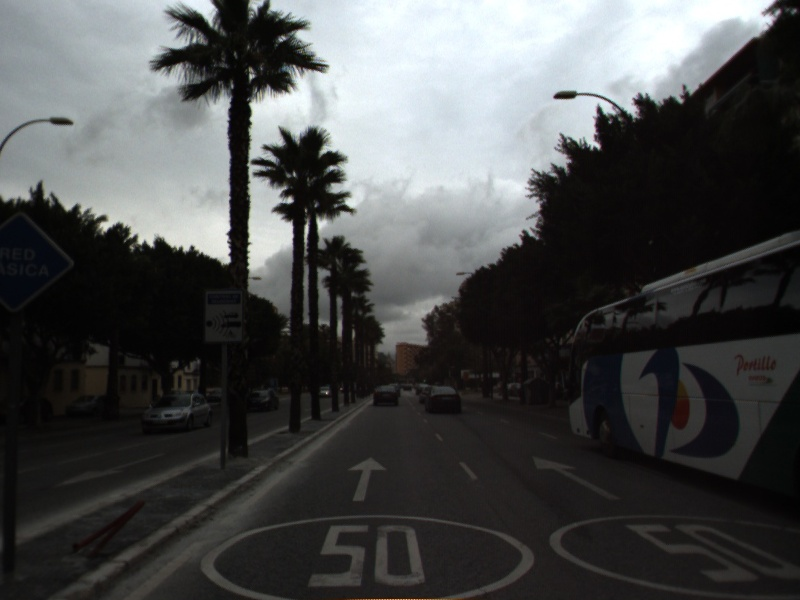STRAIGHT: (531, 454, 624, 503), (346, 454, 390, 503)
